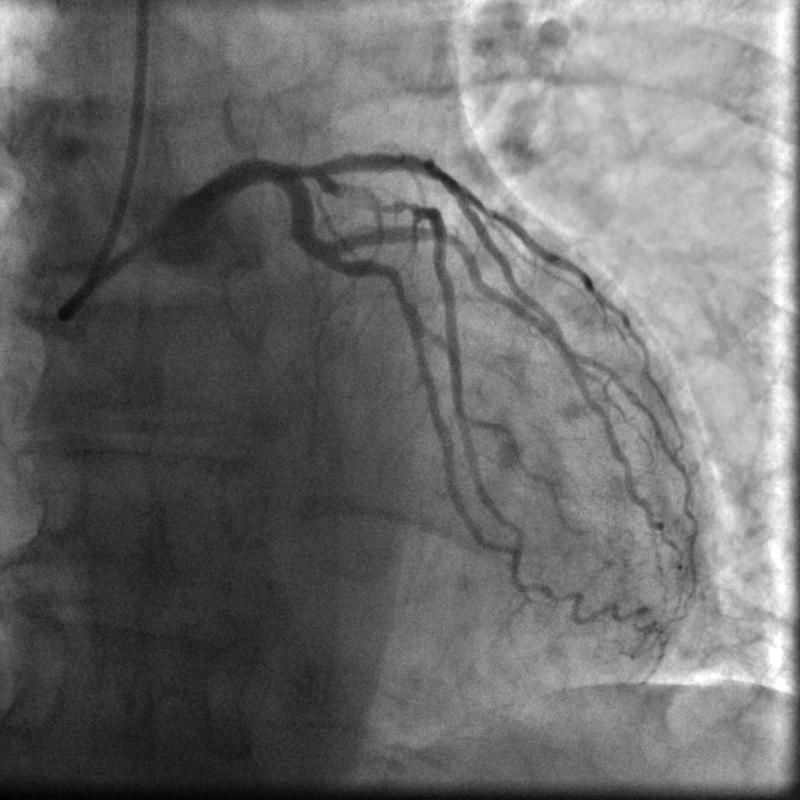Stenosis: (334, 172, 418, 227)
